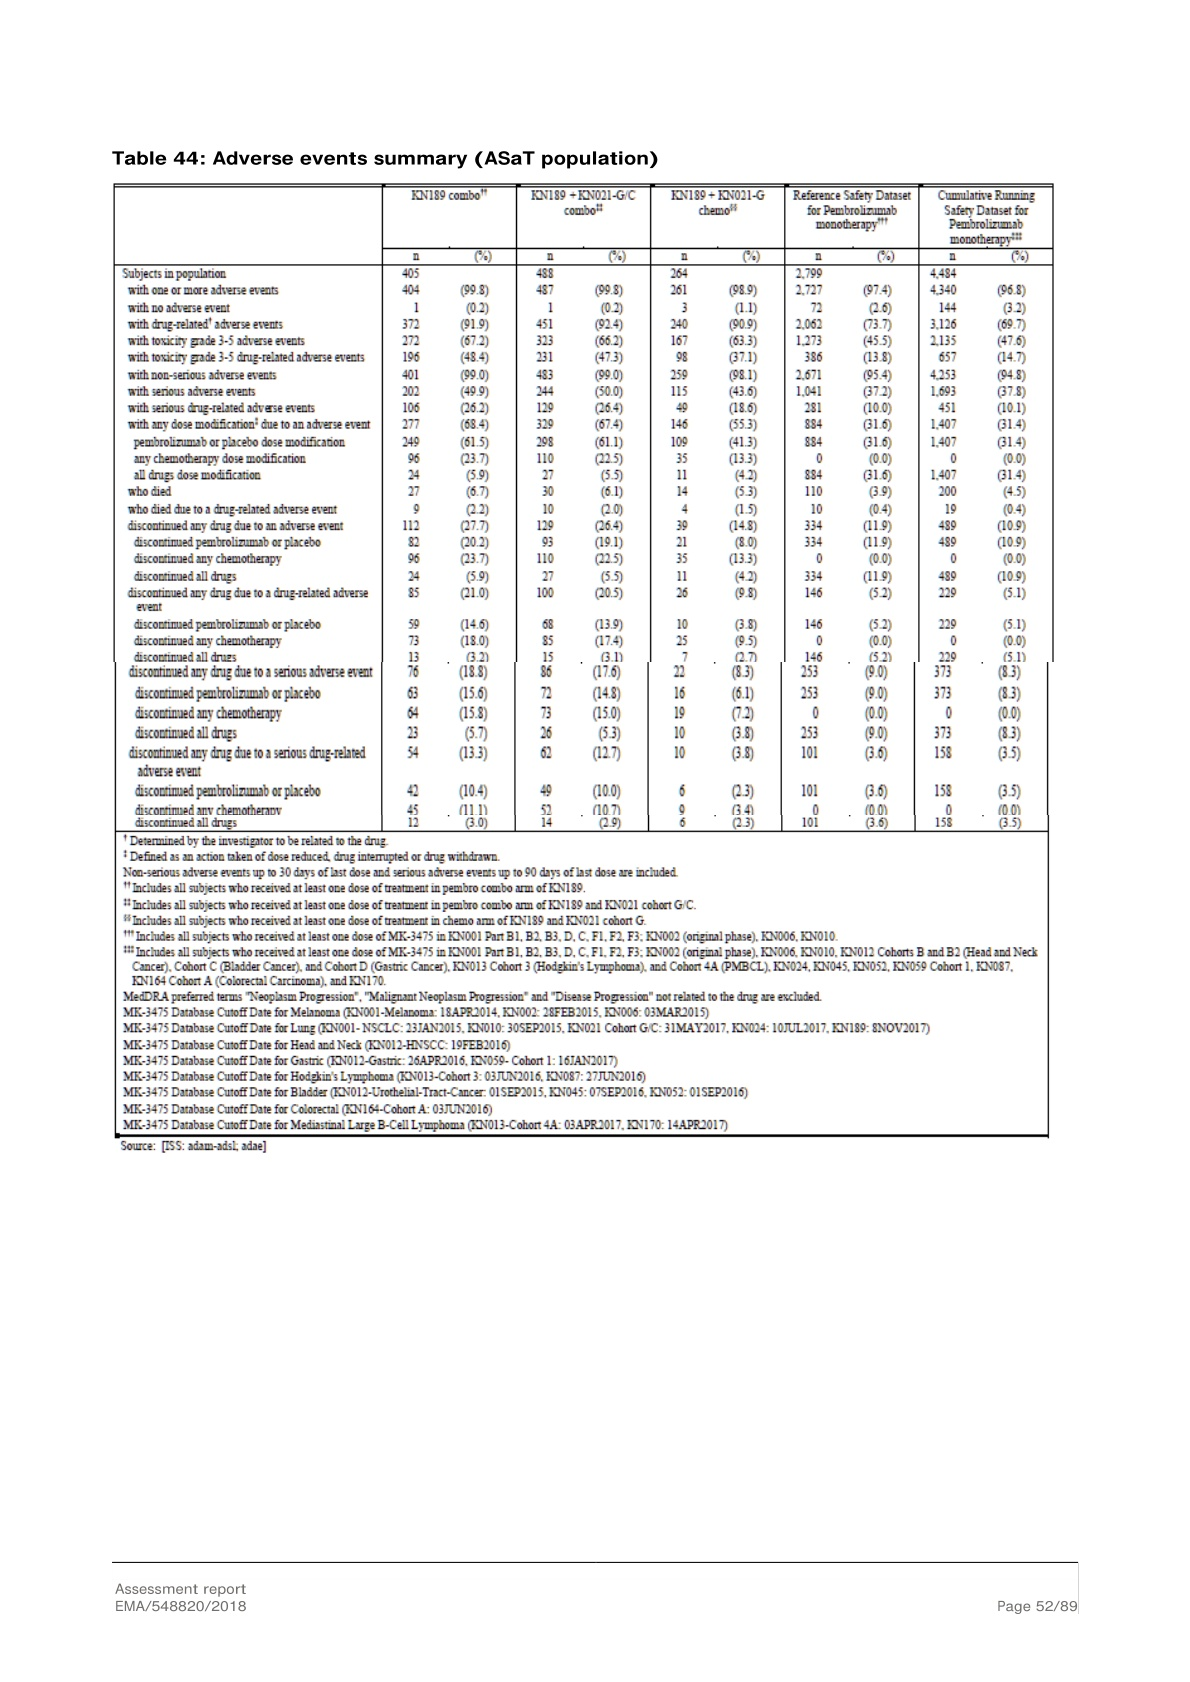partial_lined_merged_cells: (112, 182, 1055, 1139)
